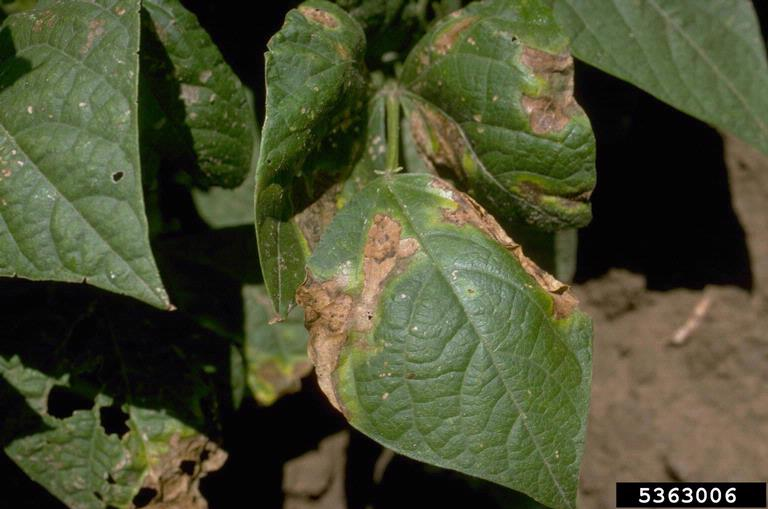StringBeans_BacterialBlight: (313, 174, 636, 491)
